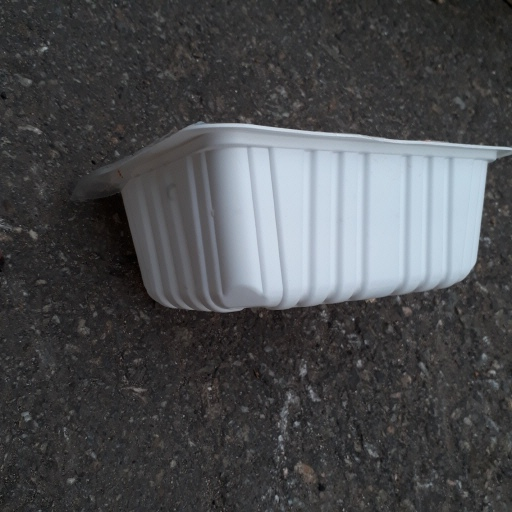Plastic_4: (79, 119, 512, 315)
